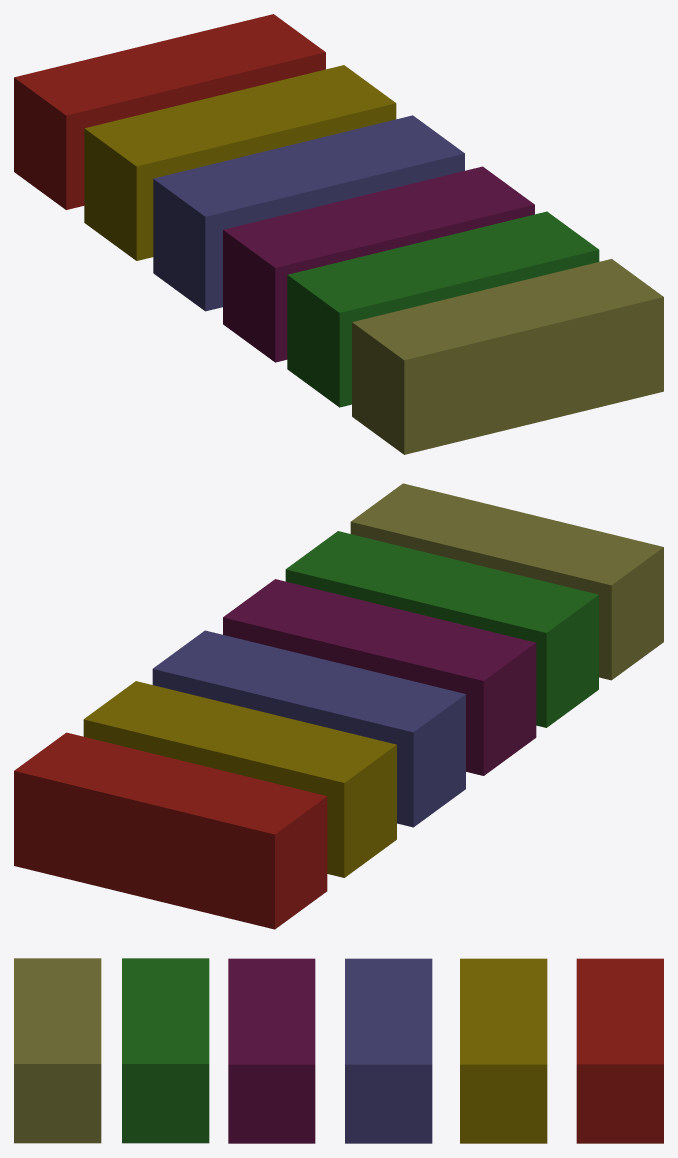
The model's file is Containers.fbx.
3 views of the same model, one above another, from view 1: azimuth 30°, elevation 25°; view 2: azimuth 150°, elevation 25°; view 3: azimuth 270°, elevation 25° (orthographic). The views are drawn at different scales.
Visible parts, largest first — view 1: Cube.019, Cube.017, Cube.015, Cube.013, Cube.018, Cube.016; view 2: Cube.017, Cube.016, Cube.013, Cube.015, Cube.019, Cube.018; view 3: Cube.013, Cube.015, Cube.016, Cube.017, Cube.018, Cube.019.
Boxes of the visible parts, box(x1,y1,x2,y2) form: Cube.019: box(352, 259, 663, 454); Cube.017: box(14, 14, 325, 209); Cube.015: box(153, 115, 464, 311); Cube.013: box(84, 65, 396, 260); Cube.018: box(287, 211, 599, 407); Cube.016: box(223, 166, 534, 362); Cube.017: box(14, 732, 327, 929); Cube.016: box(223, 579, 536, 775); Cube.013: box(83, 681, 396, 877); Cube.015: box(152, 630, 465, 827); Cube.019: box(350, 483, 663, 680); Cube.018: box(285, 531, 598, 727); Cube.013: box(460, 958, 547, 1143); Cube.015: box(345, 958, 432, 1143); Cube.016: box(228, 958, 315, 1143); Cube.017: box(576, 958, 663, 1143); Cube.018: box(122, 958, 209, 1143); Cube.019: box(14, 958, 101, 1143).
Bounding box in the file's own units: 1489 × 522 × 3839.
